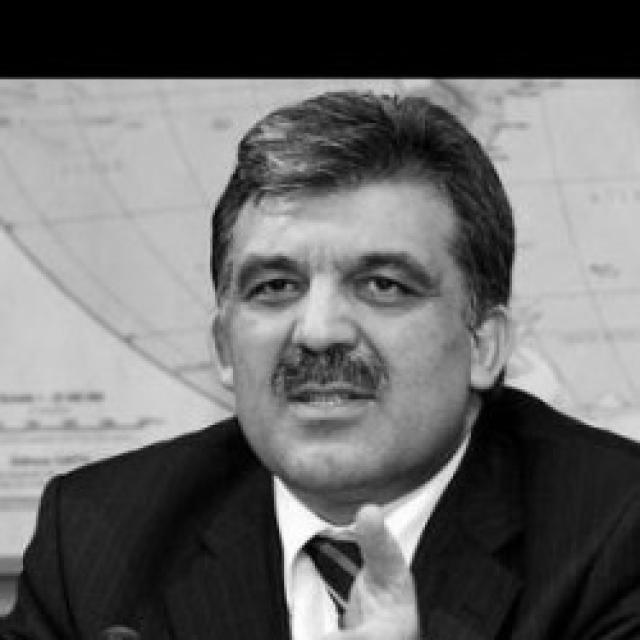real: (218, 162, 481, 496), (236, 242, 445, 315)
